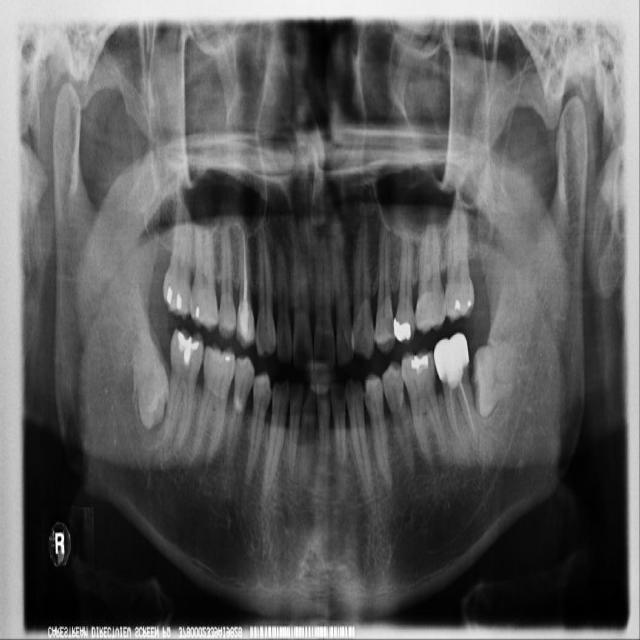Crown: (433, 332, 470, 391)
Filling: (236, 291, 255, 349), (173, 331, 199, 368), (165, 284, 185, 315), (391, 318, 412, 341), (408, 353, 431, 374), (451, 294, 471, 316), (191, 301, 207, 325), (215, 352, 235, 368)
Root Canal Treatment: (241, 233, 247, 292), (461, 389, 471, 421)
impacted tooth: (132, 288, 167, 430), (471, 342, 520, 417)
